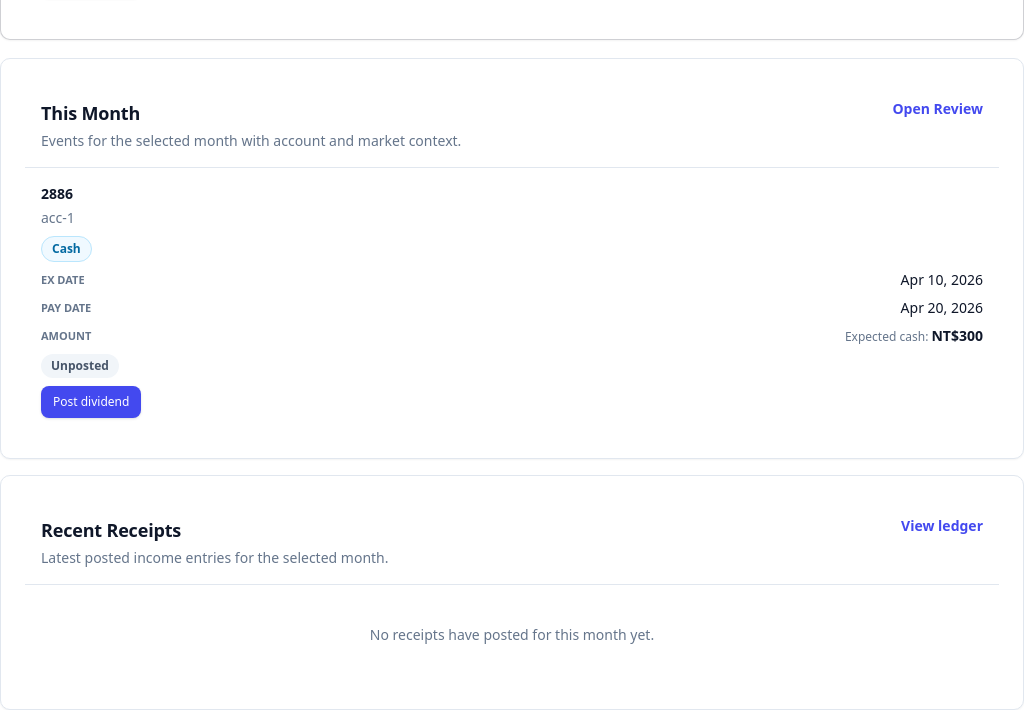
Test: DividendCalendarClient › refreshes Needs Action, This Month, totals, and receipts after posting an expected row
(page scrolled)
What coordinates should you click on to do the following:
click the button with test id "dividend-post-event-expected"
I would click on:
 (91, 402)
Its box is 41,386 -> 141,418.
(page scrolled)
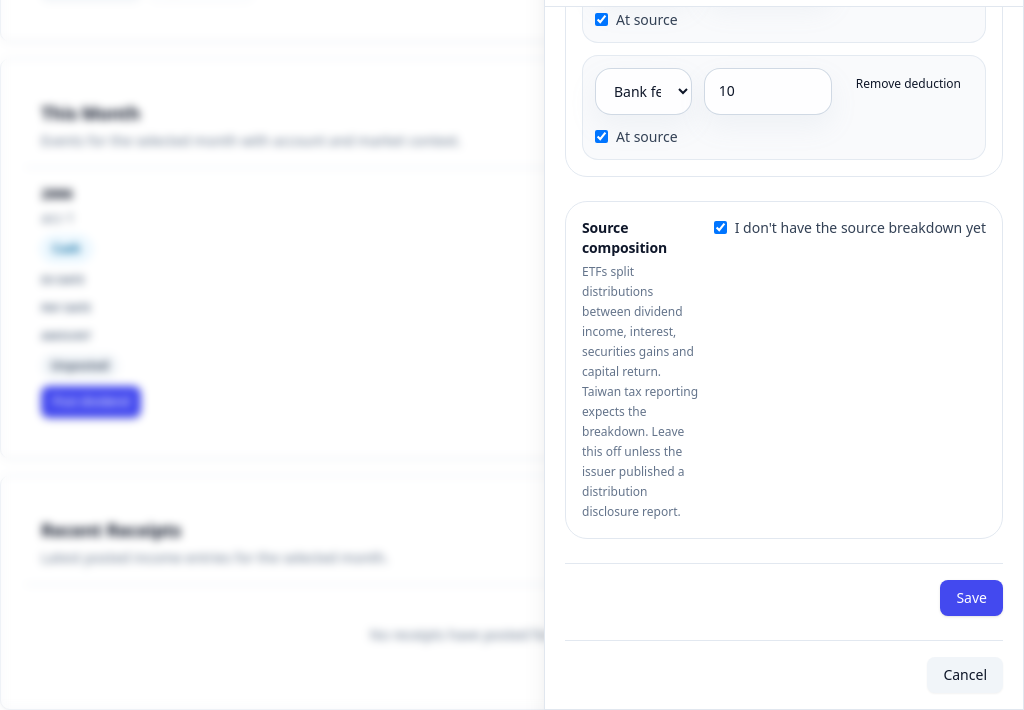
What coordinates should you click on to do the following:
click the button with test id "dividend-save"
I would click on:
 (972, 598)
Its box is 940,580 -> 1003,616.
(page scrolled)
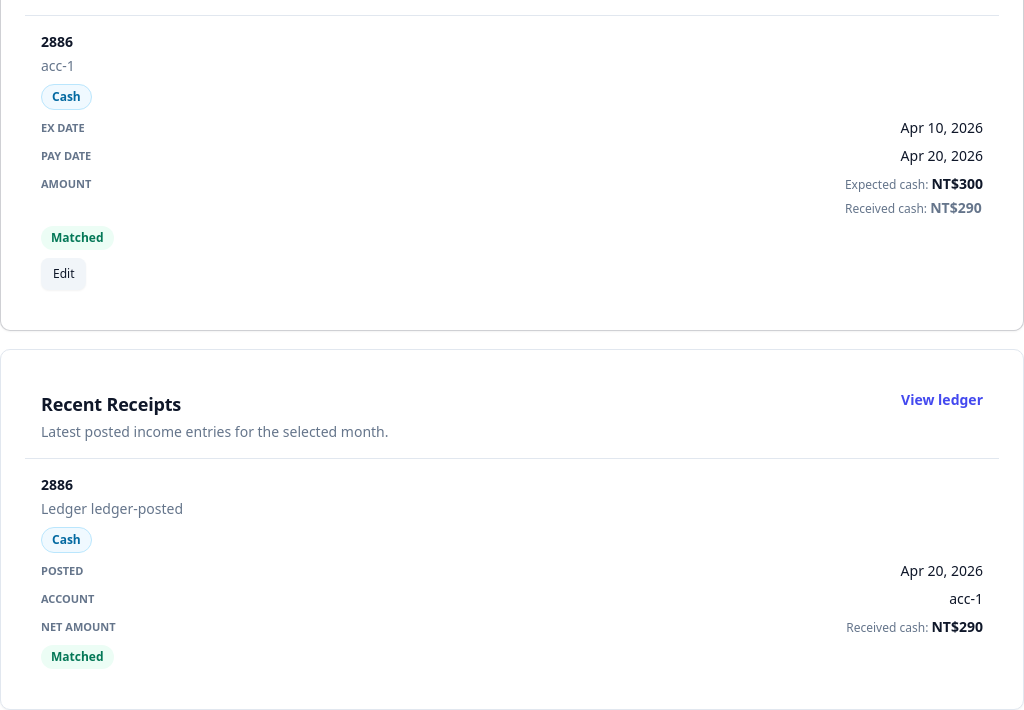
Expected: the button with test id "dividend-post-event-expected" is shown, 41,258 -> 86,290
Now the element with test id "dividends-recent-receipts" shows "2886", box 25,458 -> 999,684
Now the element with test id "dividends-recent-receipts" shows "NT$290", box 25,458 -> 999,684
